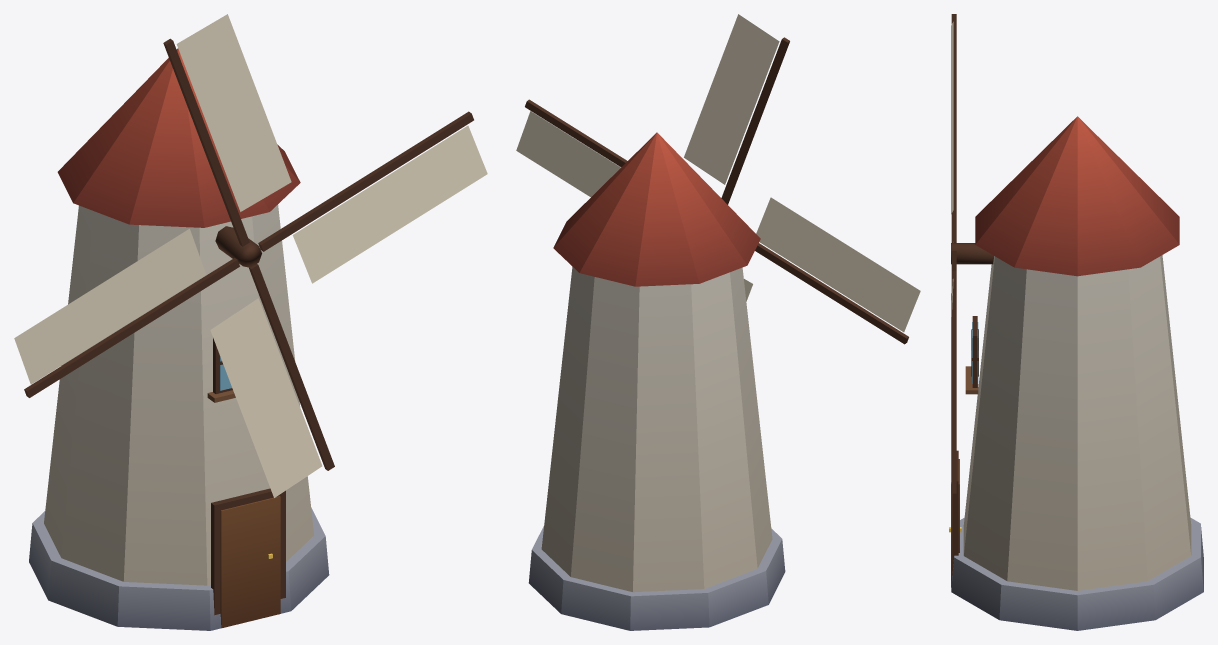
Rendered from windmill.glb.
The picture shows the model from 3 angles, left to right: view 1: azimuth 30°, elevation 25°; view 2: azimuth 150°, elevation 25°; view 3: azimuth 270°, elevation 25°; orthographic projection. The views are drawn at different scales.
Parts seen in each view (by area): view 1: windmill; view 2: windmill; view 3: windmill.
Boxes of the visible parts, <box> form: windmill: <box>14,14,487,630</box>; windmill: <box>516,14,920,630</box>; windmill: <box>949,14,1203,630</box>.
Size of the model in its own units: 7.6 by 9.4 by 4.03.
